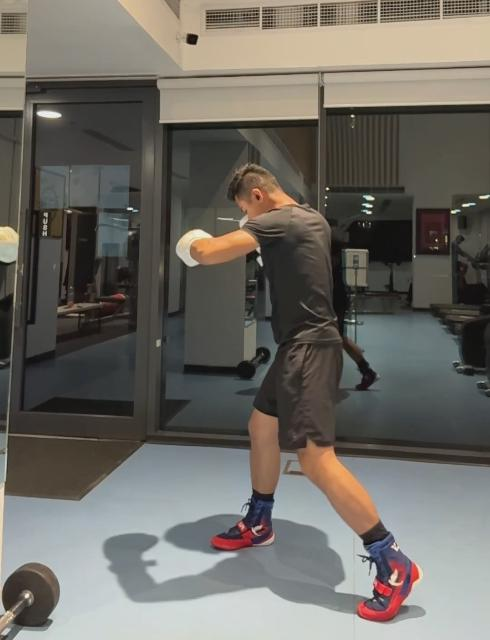punch: (174, 160, 424, 626)
